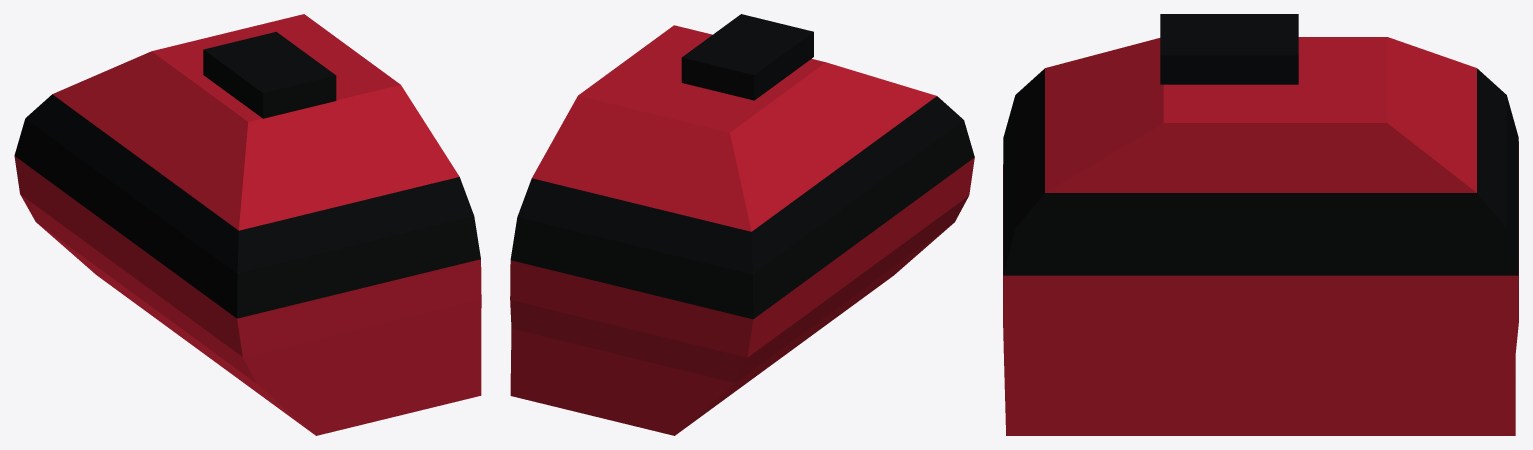
File: bomber.obj
3 views of the same model, side by side, from view 1: azimuth 30°, elevation 25°; view 2: azimuth 150°, elevation 25°; view 3: azimuth 270°, elevation 25° (orthographic). The views are drawn at different scales.
Parts seen in each view (by area): view 1: Cube; view 2: Cube; view 3: Cube.
Part boxes in pixels (x1,y1,x2,y2): Cube: (14,14,481,435); Cube: (510,14,974,435); Cube: (1003,14,1518,435).
Bounding box in the file's own units: 0.1763 × 0.1995 × 0.2773.
